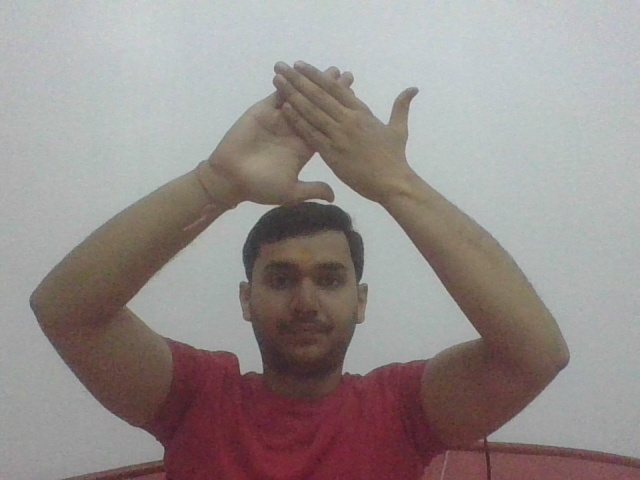H: (215, 56, 423, 207)
